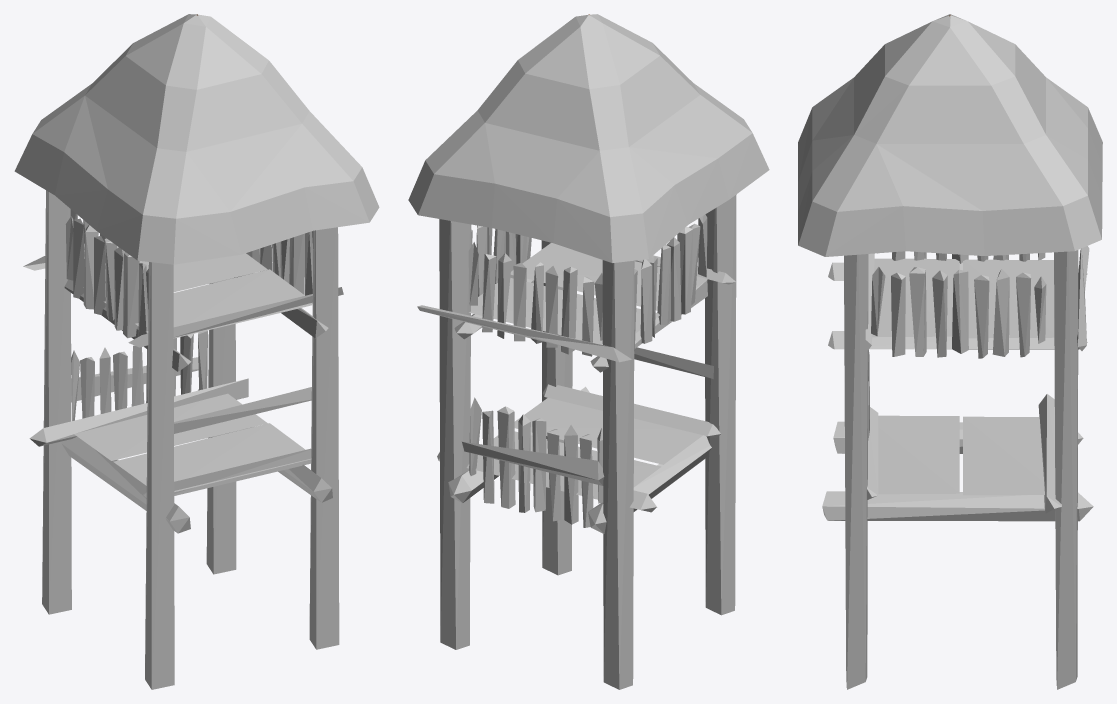
Rendered from WatchTower_1_LOD3.fbx.
3 renders of one model, left to right at view 1: azimuth 30°, elevation 25°; view 2: azimuth 150°, elevation 25°; view 3: azimuth 270°, elevation 25°, orthographic. The views are drawn at different scales.
Visible parts, largest first — view 1: Wood, Alpha; view 2: Wood, Alpha; view 3: Wood, Alpha.
Boxes of the visible parts, <box> form: Wood: <box>23,190,343,689</box>; Alpha: <box>14,14,379,264</box>; Wood: <box>417,194,736,689</box>; Alpha: <box>408,14,769,262</box>; Wood: <box>822,246,1093,689</box>; Alpha: <box>798,14,1102,256</box>.
Bounding box in the file's own units: 643 × 685 × 1562.
